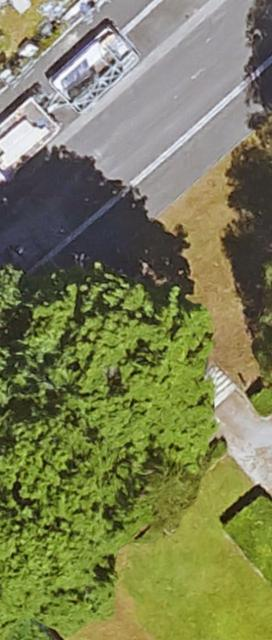tree: (0, 277, 212, 640)
